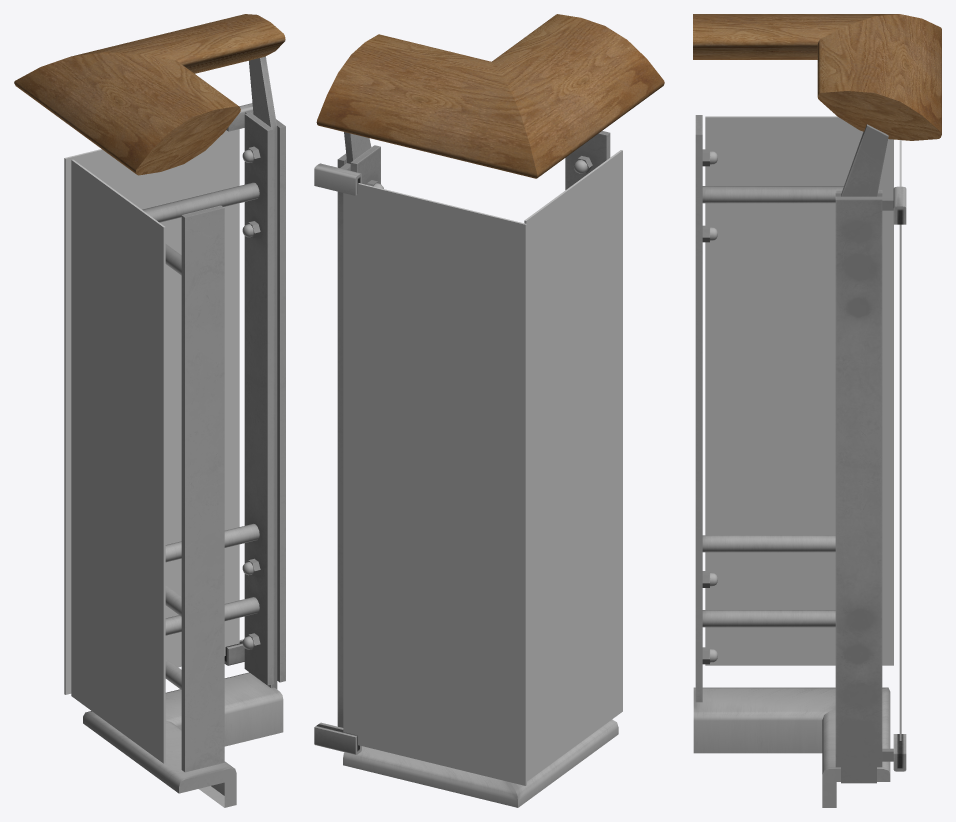
Rendered from SM_Railing_01_Corner_02.fbx.
3 views of the same model, side by side, from view 1: azimuth 30°, elevation 25°; view 2: azimuth 150°, elevation 25°; view 3: azimuth 270°, elevation 25° (orthographic). The views are drawn at different scales.
Parts seen in each view (by area): view 1: SM_Railing_01_Corner_02_LOD0; view 2: SM_Railing_01_Corner_02_LOD0; view 3: SM_Railing_01_Corner_02_LOD0.
Boxes of the visible parts, <box> form: SM_Railing_01_Corner_02_LOD0: <box>14,14,285,807</box>; SM_Railing_01_Corner_02_LOD0: <box>314,14,664,807</box>; SM_Railing_01_Corner_02_LOD0: <box>693,14,941,807</box>.
Bounding box in the file's own units: 37.92 × 34.67 × 110.
